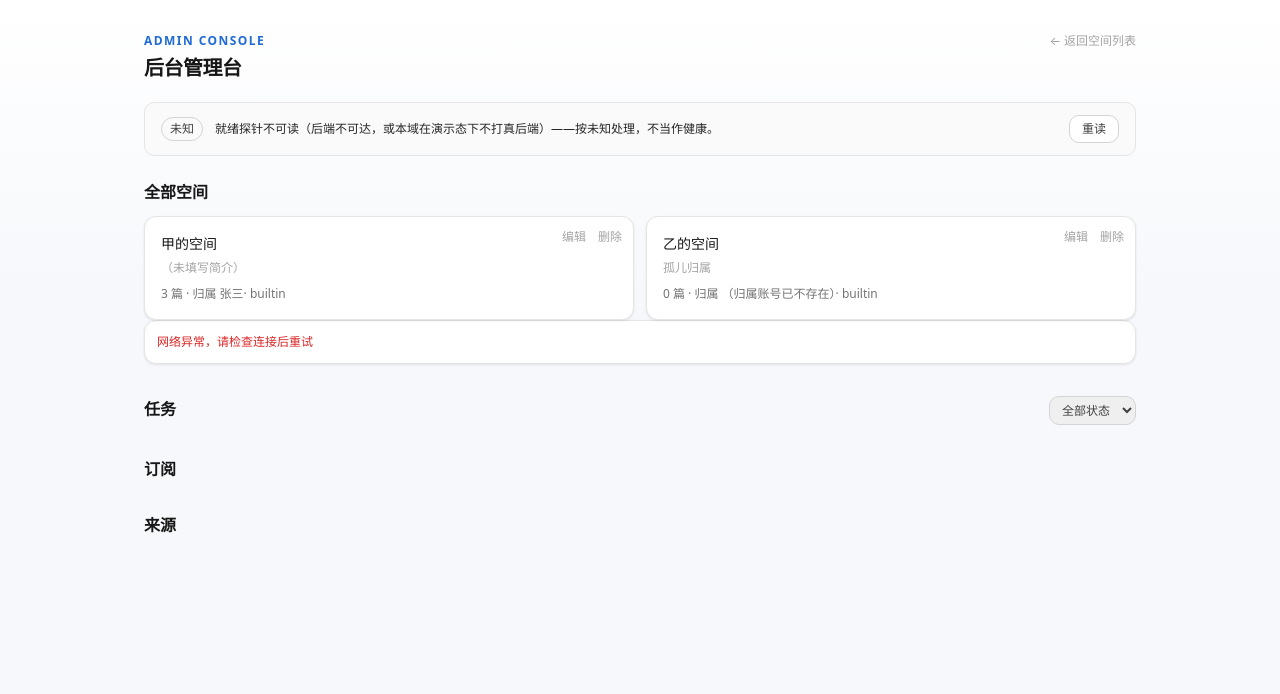
Test case: 后台管理台：批量操作只走 admin 端点 › 批量删除命中 /admin 变体，绝不落到本人空间端点
The width and height of the screenshot is (1280, 694).
Click the button "甲的空间 （未填写简介） 3 篇 · 归属 张三· builtin".
click(189, 244)  # box [144,216,634,320]
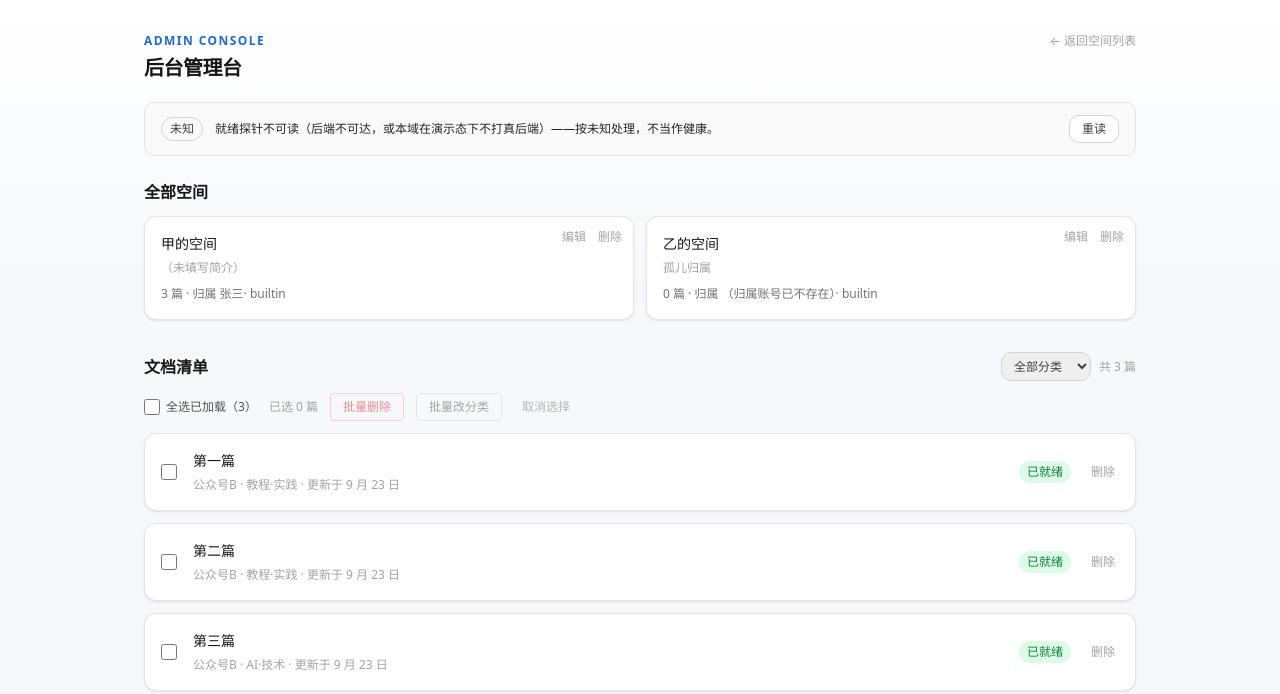
Check: the text "第一篇" is shown, box [193,451,235,470]
Click the checkbox named "选择文档：第一篇".
click(169, 472)  # box [161,464,177,480]
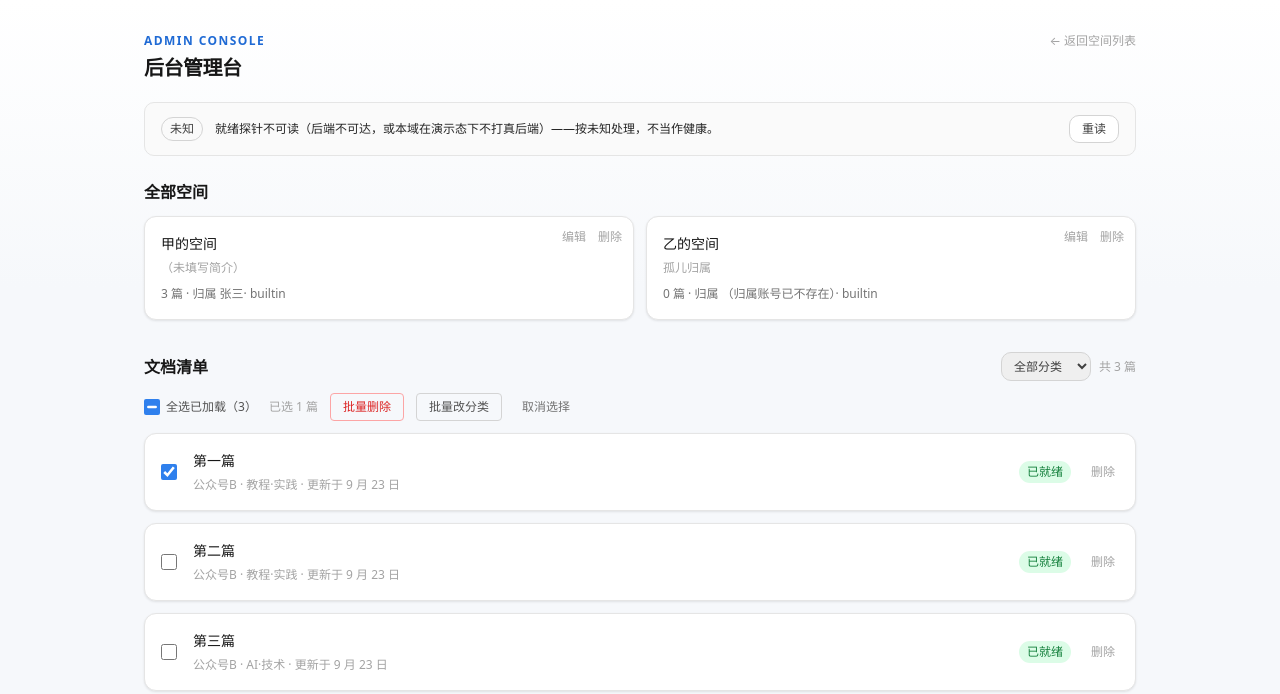
Click the checkbox named "选择文档：第二篇".
click(169, 562)  # box [161,554,177,570]
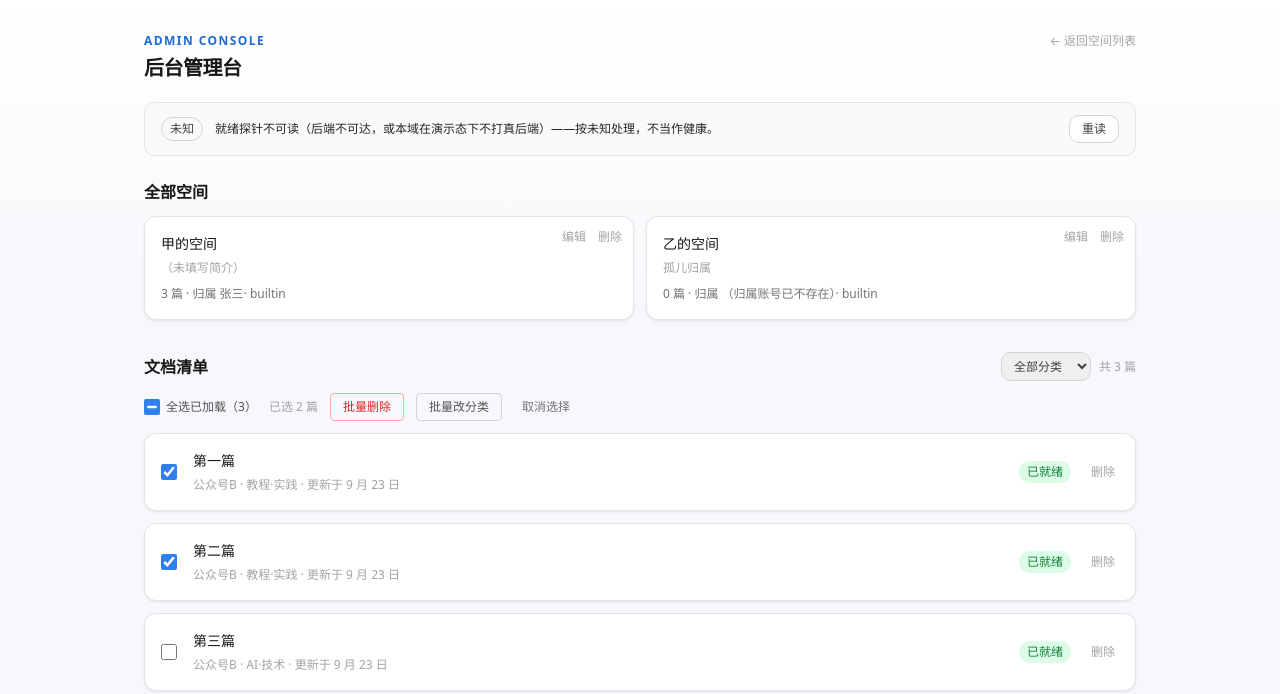
Check: the text "已选 2 篇" is shown, box [269,398,318,416]
Click the button "批量删除".
click(367, 407)  # box [330,393,404,421]
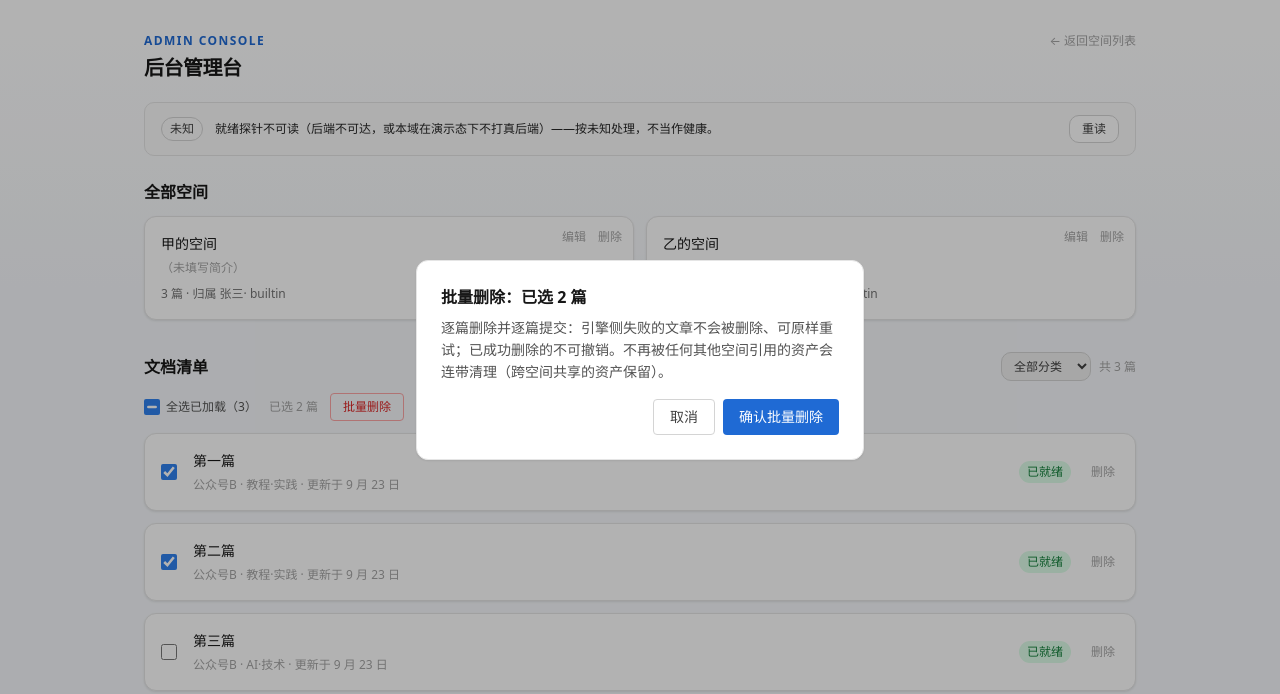
Click the button "确认批量删除".
click(781, 417)  # box [723,399,839,435]
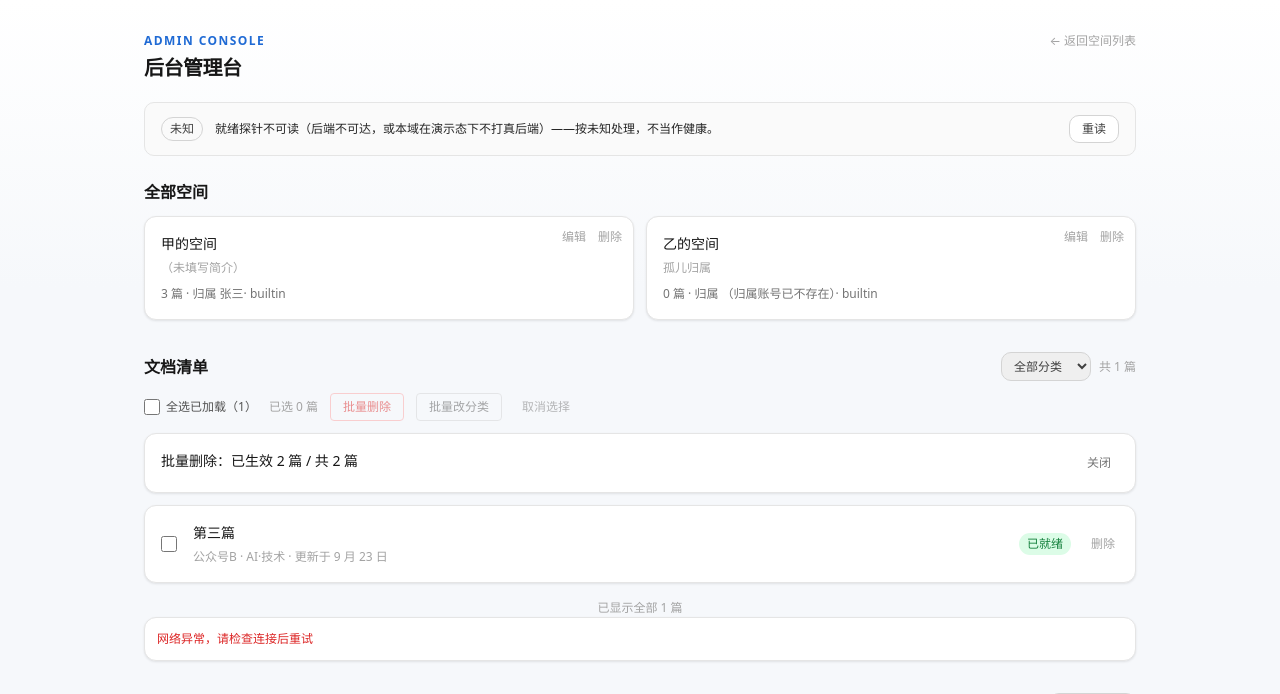
Check: the text "批量删除：已生效 2 篇 / 共 2 篇" is shown, box [161,451,358,470]
